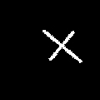single_crochet: (43, 30, 81, 62)
